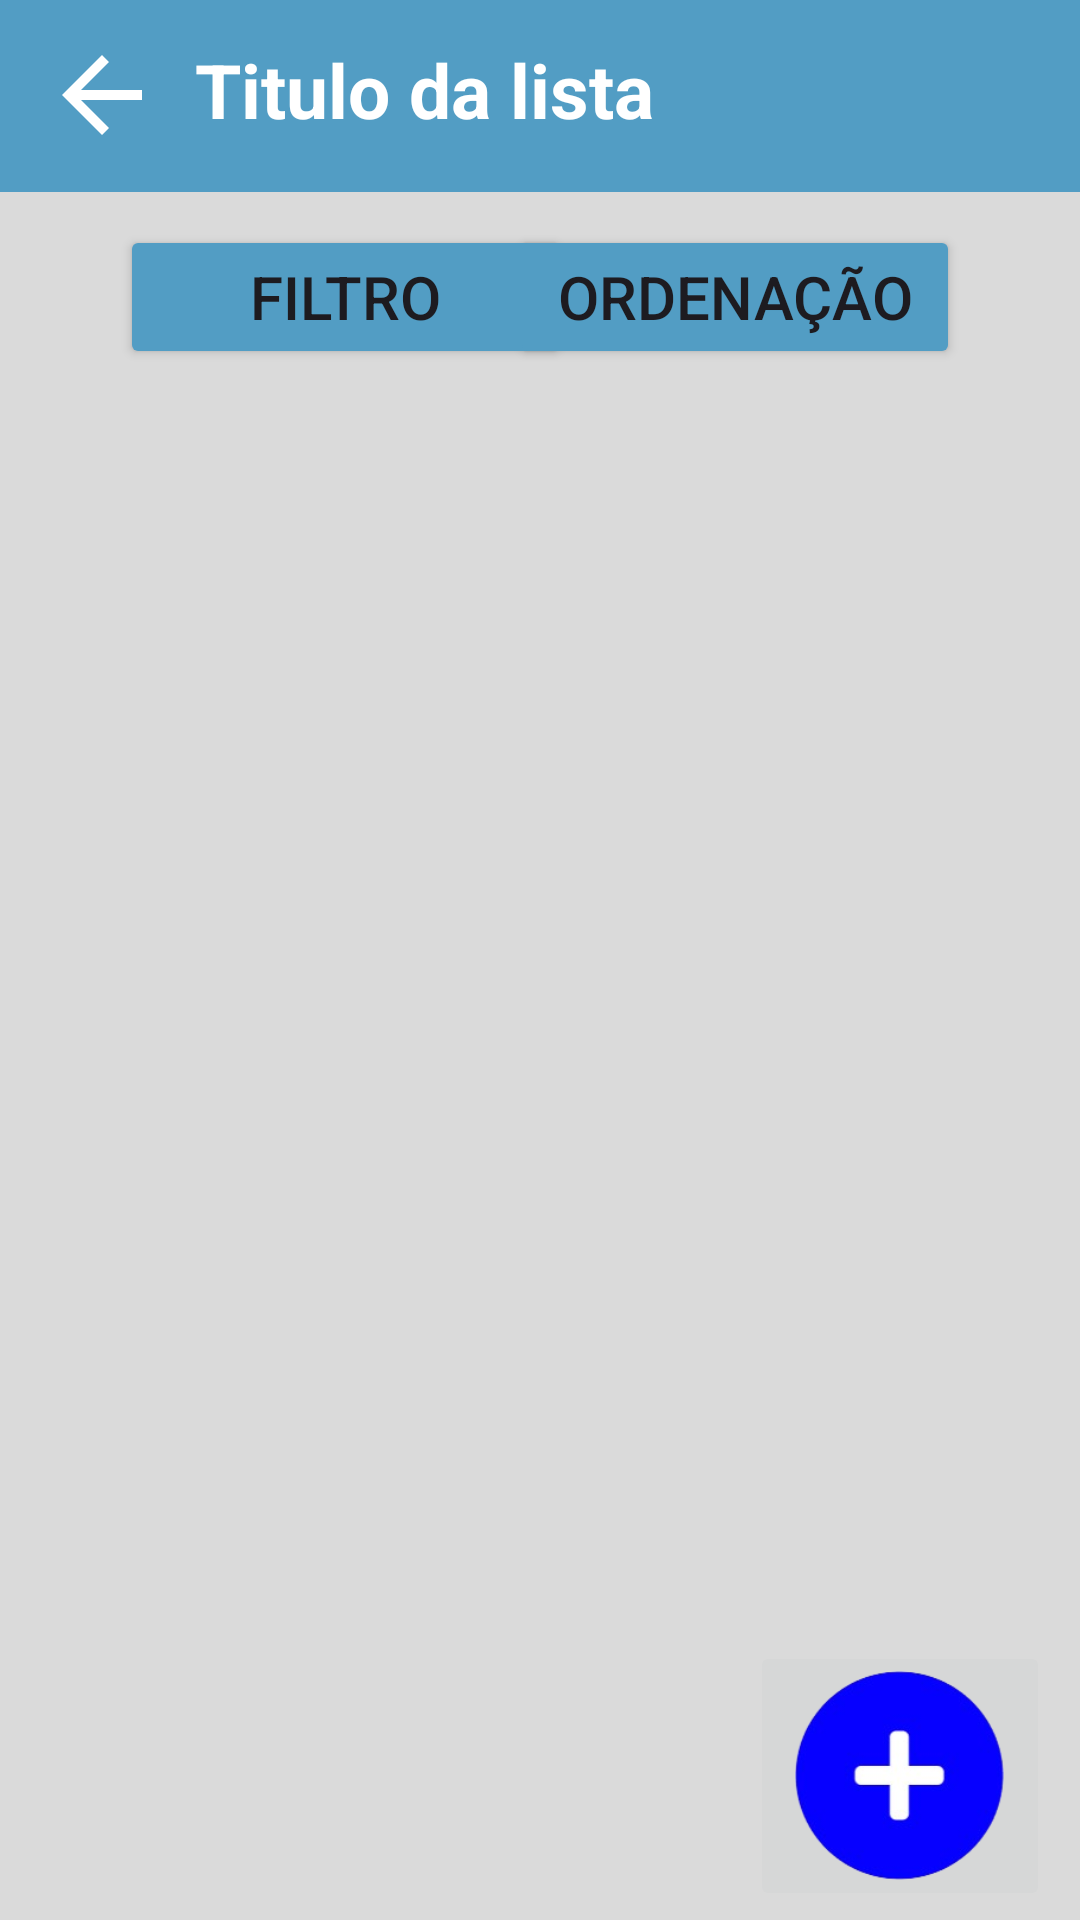

Where to tap for icons on this 1080×1920 app screen, as [x,y]:
mais: [899,1775]
